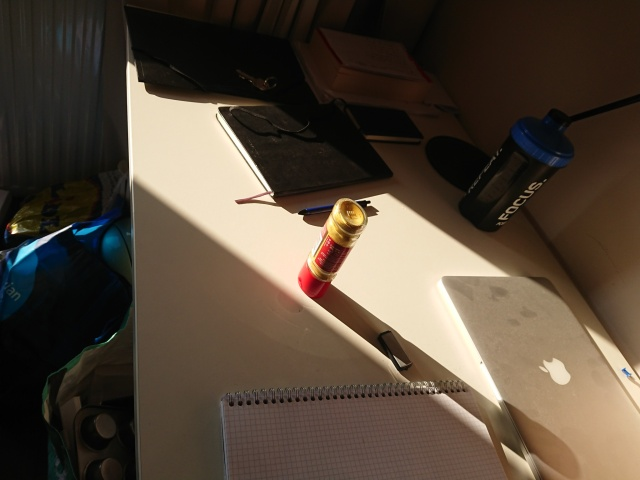Kotanyi Curry Spices Mix 70g: (296, 197, 369, 302)
